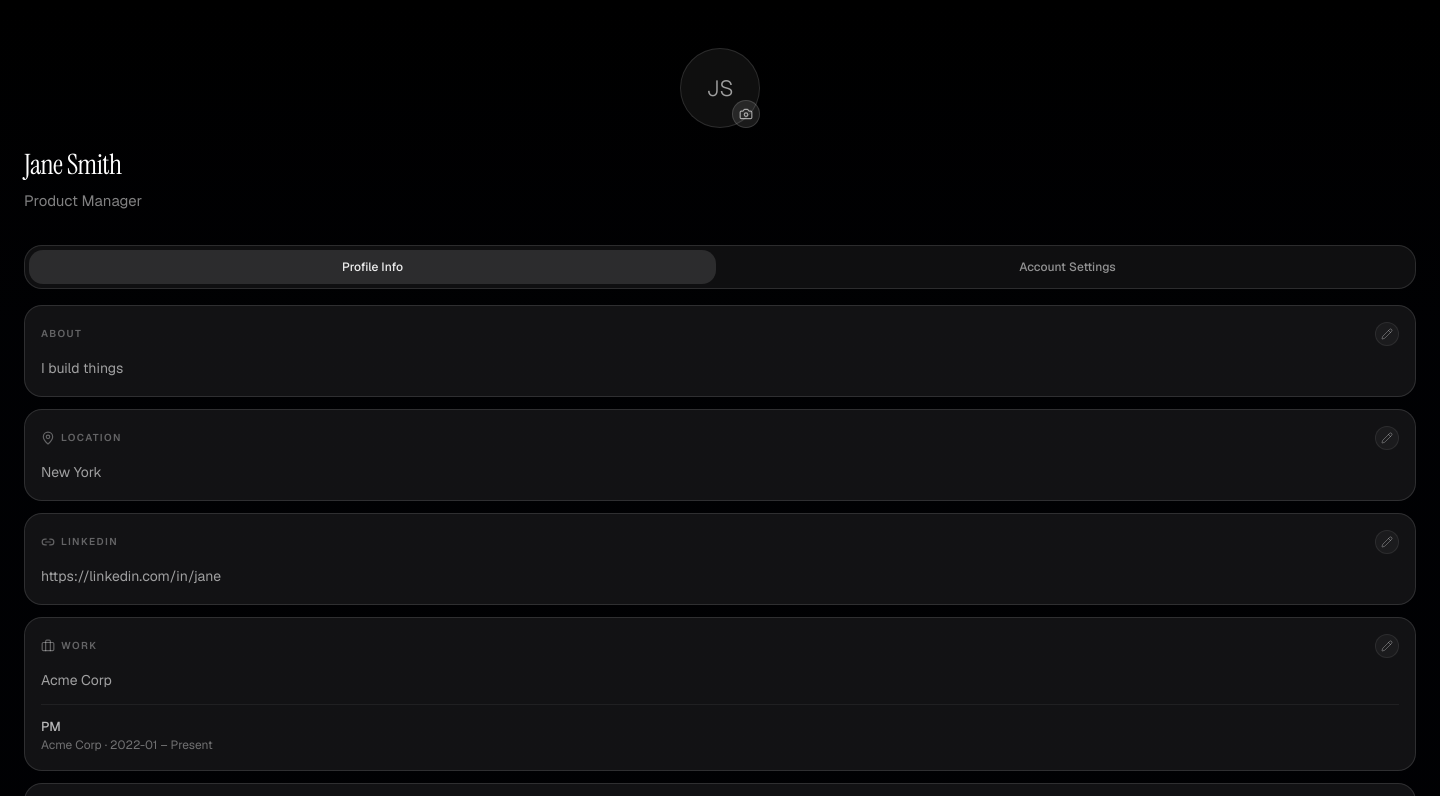
ProfilePage › opens edit mode when clicking a field
What coordinates should you click on to do the following:
click the button "I build things"
I would click on:
 (82, 368)
Its box is 41,356 -> 1399,379.
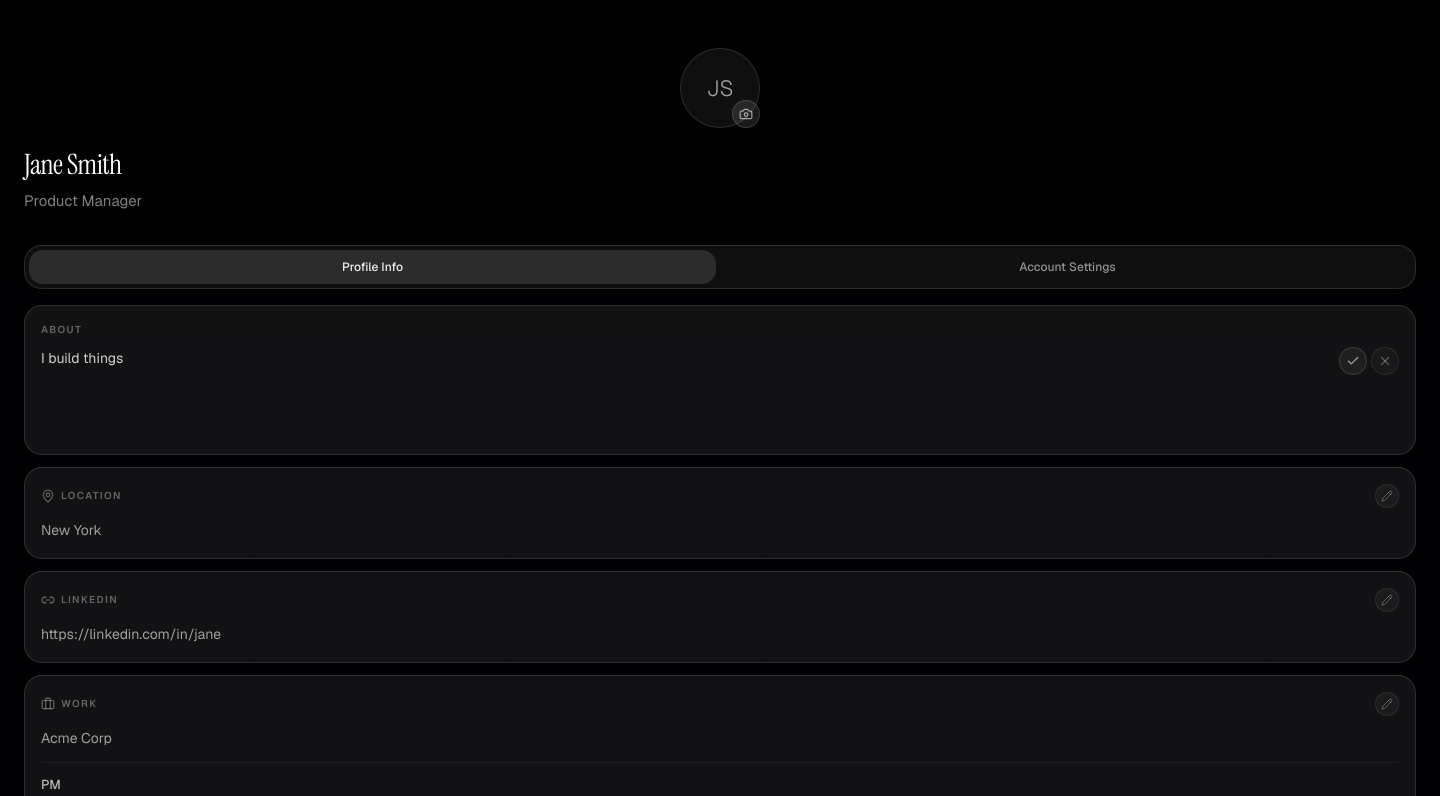
expect the text box showing "I build things" is shown: met, box 41,346 -> 1331,438
